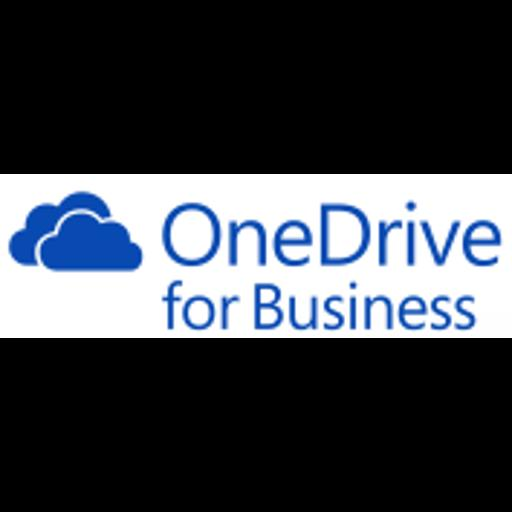Outlook: (0, 174, 512, 338)
